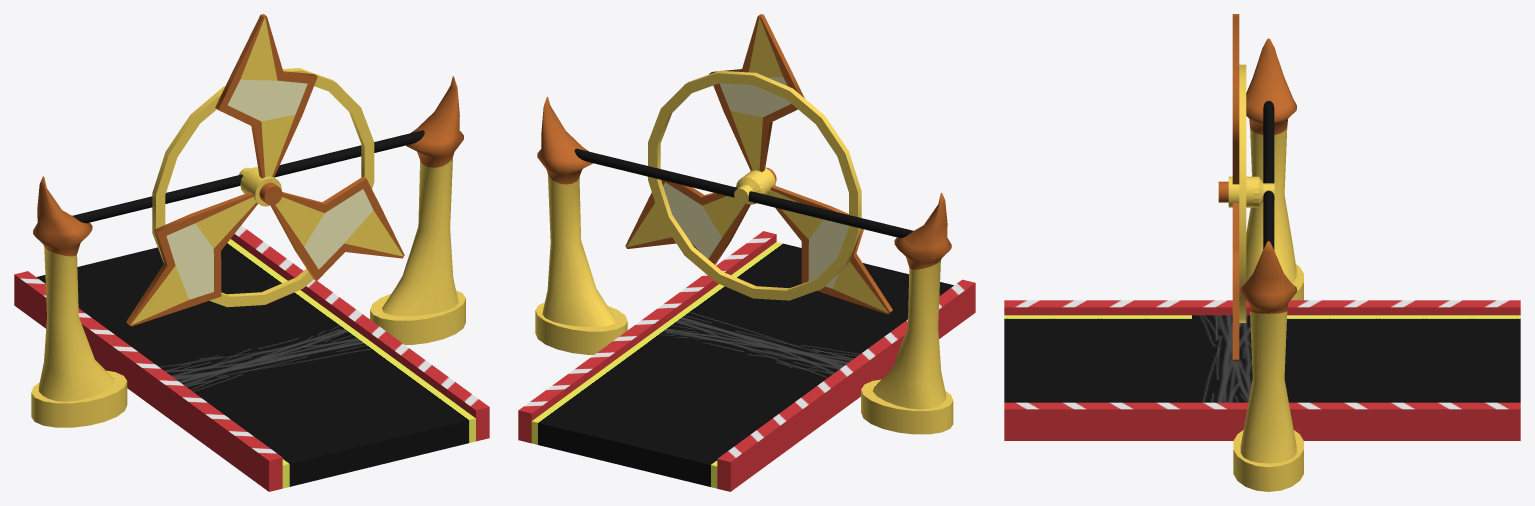
The model's file is Special track piece - Fan.fbx.
3 renders of one model, left to right at view 1: azimuth 30°, elevation 25°; view 2: azimuth 150°, elevation 25°; view 3: azimuth 270°, elevation 25°, orthographic. The views are drawn at different scales.
Visible parts, largest first — view 1: Track - Fan peice, Fan; view 2: Track - Fan peice, Fan; view 3: Track - Fan peice, Fan.
Part boxes in pixels (box(x1,y1,x2,y2)): Track - Fan peice: box(14, 76, 489, 491); Fan: box(126, 14, 404, 326); Track - Fan peice: box(518, 96, 975, 491); Fan: box(625, 14, 892, 314); Track - Fan peice: box(1004, 38, 1520, 491); Fan: box(1218, 14, 1274, 361).
Size of the model in its own units: 96.98 by 79.3 by 100.
